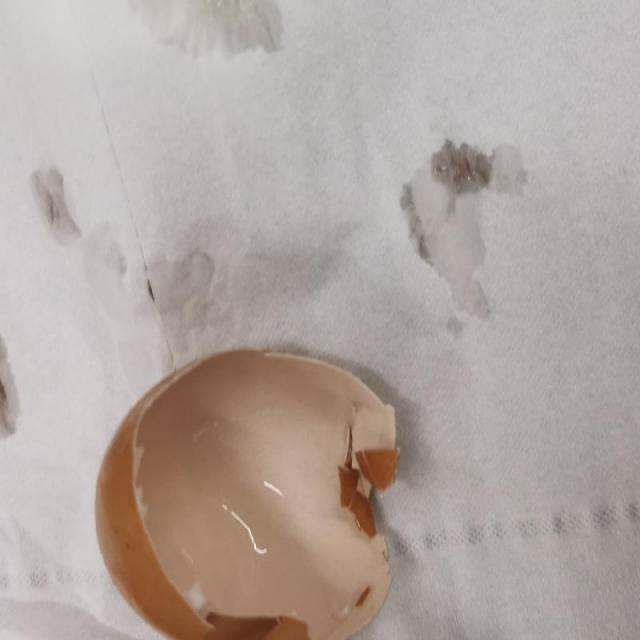egg shell: (90, 343, 407, 639)
